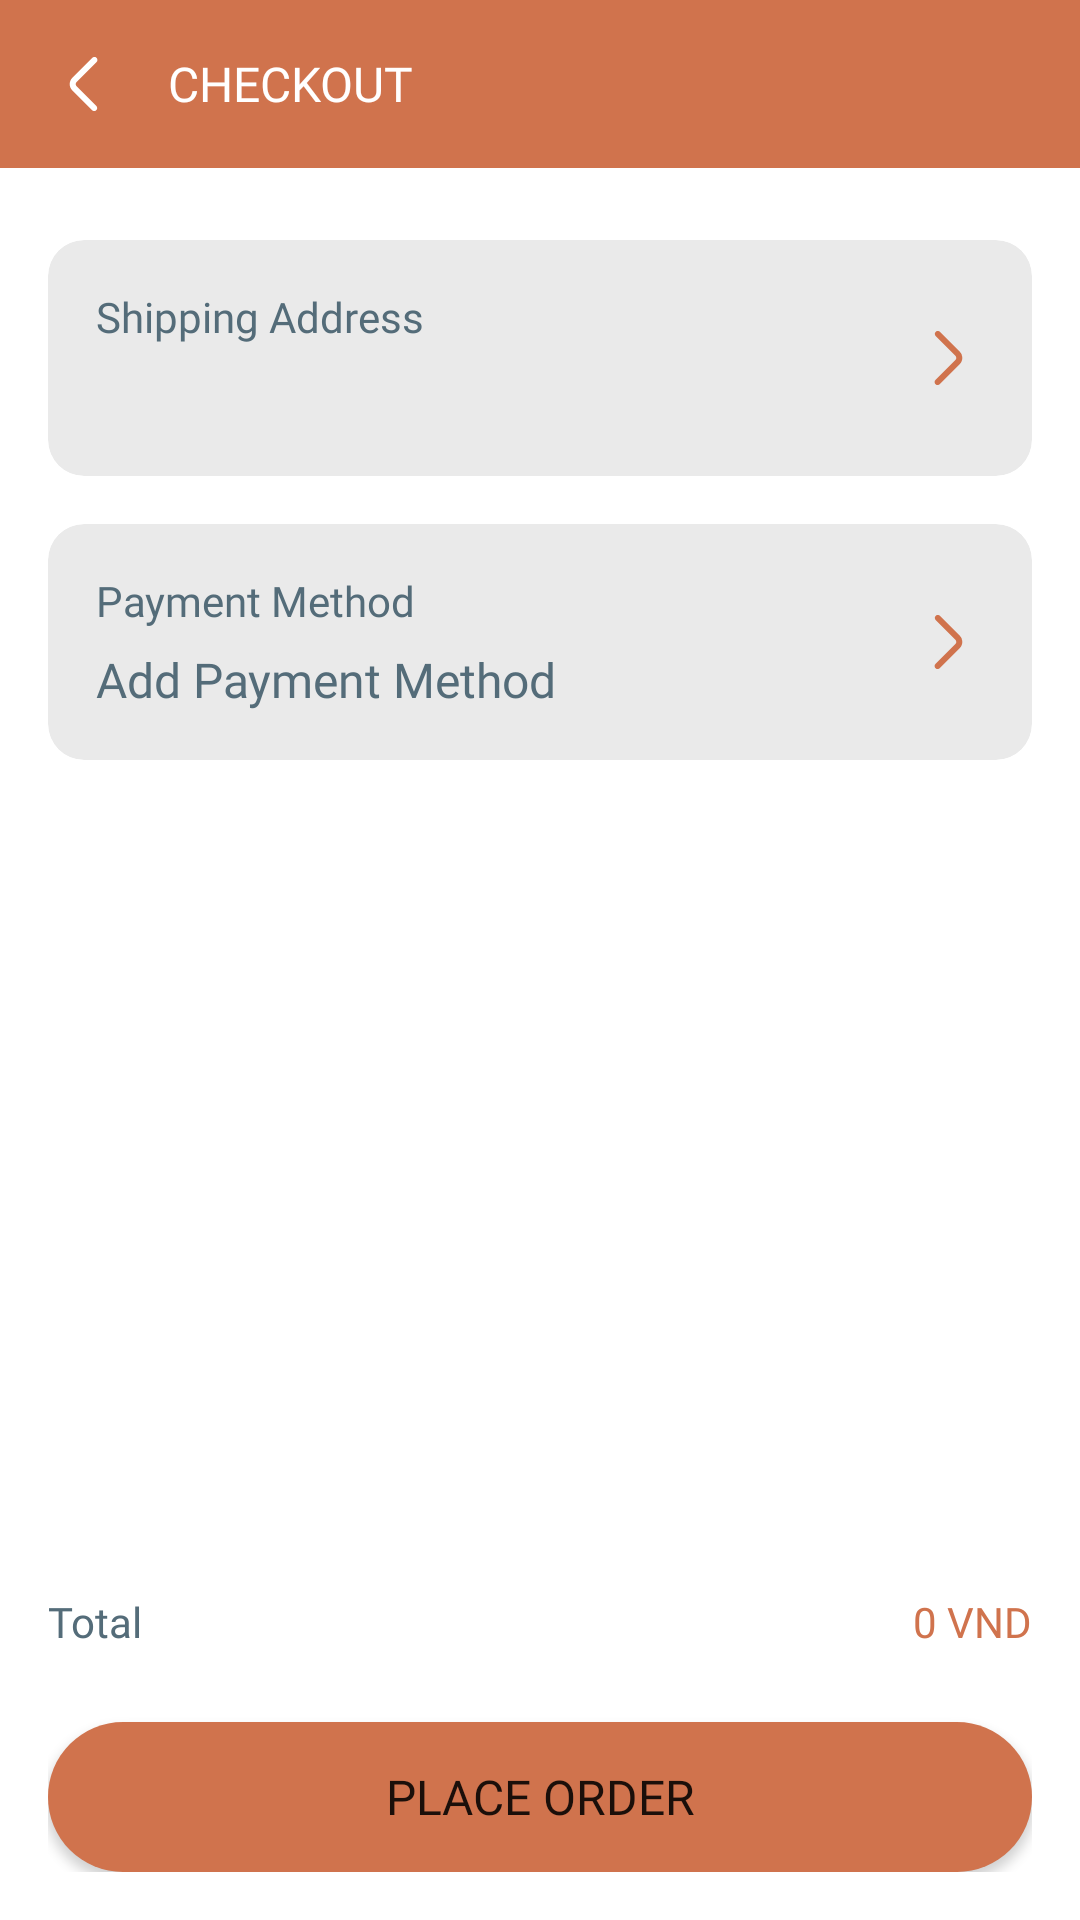

Point at icon controls on the screen. Image size 1080×1920, points as (x,y).
back: (83,84)
next: (948,358), (948,642)
